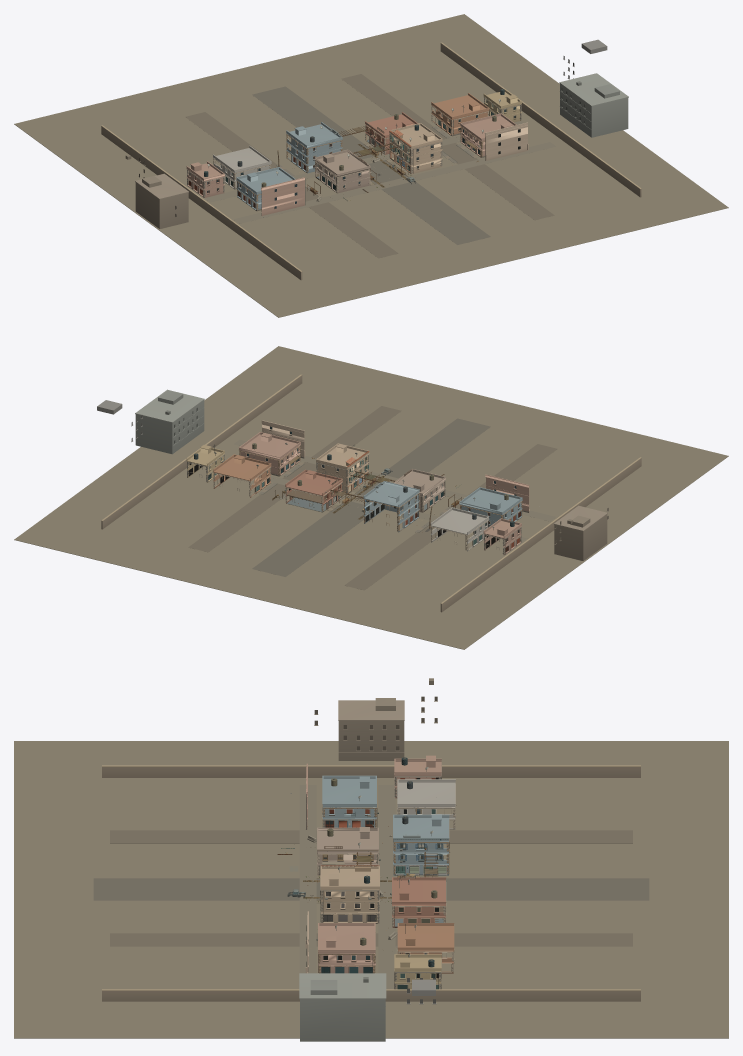
Rendered from central.glb.
3 renders of one model, top to bottom at view 1: azimuth 30°, elevation 25°; view 2: azimuth 150°, elevation 25°; view 3: azimuth 270°, elevation 25°, orthographic. The views are drawn at different scales.
Visible parts, largest first — view 1: ML_central_asphalt, ML_central_road, ML_central_plaster, ML_central_plaster.001, ML_central_plaster.002, ML_central_plaster.003, ML_central_skyline.002, ML_central_asphalt.002, ML_central_plaster.004, ML_central_asphalt.001, ML_central_skyline.001; view 2: ML_central_asphalt, ML_central_road, ML_central_plaster, ML_central_plaster.001, ML_central_skyline.002, ML_central_plaster.002, ML_central_plaster.003, ML_central_asphalt.002, ML_central_plaster.004, ML_central_asphalt.001, ML_central_skyline.001; view 3: ML_central_asphalt, ML_central_road, ML_central_plaster.004, ML_central_plaster.003, ML_central_skyline.002, ML_central_plaster, ML_central_plaster.002, ML_central_asphalt.002, ML_central_asphalt.001, ML_central_plaster.001, ML_central_skyline.001, Art_central_Exterior_05.
Boxes of the visible parts, bbox=[...] form: ML_central_asphalt: bbox=[14, 14, 728, 317]; ML_central_road: bbox=[204, 86, 555, 244]; ML_central_plaster: bbox=[287, 114, 442, 193]; ML_central_plaster.001: bbox=[213, 126, 345, 215]; ML_central_plaster.002: bbox=[401, 95, 527, 165]; ML_central_plaster.003: bbox=[101, 125, 302, 280]; ML_central_skyline.002: bbox=[559, 39, 628, 137]; ML_central_asphalt.002: bbox=[341, 74, 554, 220]; ML_central_plaster.004: bbox=[440, 42, 641, 197]; ML_central_asphalt.001: bbox=[185, 112, 398, 258]; ML_central_skyline.001: bbox=[135, 158, 188, 228]; ML_central_asphalt: bbox=[14, 346, 728, 649]; ML_central_road: bbox=[234, 418, 555, 576]; ML_central_plaster: bbox=[285, 443, 445, 523]; ML_central_plaster.001: bbox=[388, 474, 529, 542]; ML_central_skyline.002: bbox=[97, 389, 204, 454]; ML_central_plaster.002: bbox=[213, 420, 347, 503]; ML_central_plaster.003: bbox=[440, 457, 641, 612]; ML_central_asphalt.002: bbox=[188, 406, 401, 552]; ML_central_plaster.004: bbox=[101, 374, 302, 529]; ML_central_asphalt.001: bbox=[344, 444, 557, 590]; ML_central_skyline.001: bbox=[554, 505, 607, 560]; ML_central_asphalt: bbox=[14, 741, 728, 1038]; ML_central_road: bbox=[93, 785, 649, 989]; ML_central_plaster.004: bbox=[102, 945, 640, 1001]; ML_central_plaster.003: bbox=[102, 755, 640, 798]; ML_central_skyline.002: bbox=[299, 973, 436, 1041]; ML_central_plaster: bbox=[317, 814, 449, 915]; ML_central_plaster.002: bbox=[305, 874, 454, 973]; ML_central_asphalt.002: bbox=[110, 933, 632, 946]; ML_central_asphalt.001: bbox=[110, 830, 632, 843]; ML_central_plaster.001: bbox=[306, 763, 455, 856]; ML_central_skyline.001: bbox=[338, 696, 437, 760]; Art_central_Exterior_05: bbox=[394, 834, 448, 875].
Bounding box in the file's own units: 182 × 17.58 × 175.
106 materials, 61 textured.
